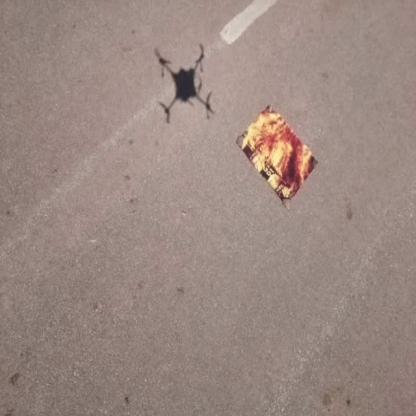fire-poster: (235, 103, 318, 207)
